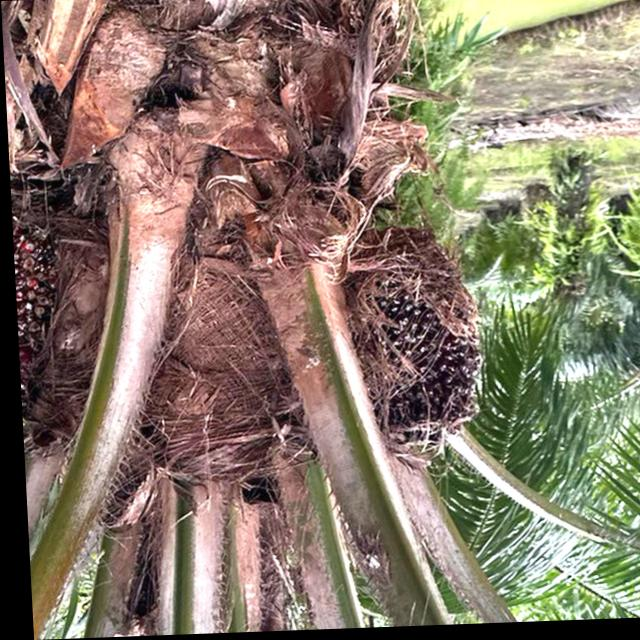ripe: (339, 256, 480, 452)
